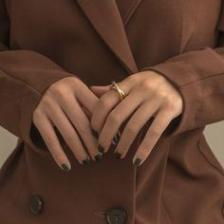brown: (0, 139, 224, 224), (0, 142, 137, 224), (7, 0, 129, 85), (118, 0, 221, 69), (0, 51, 72, 147), (146, 48, 224, 135), (158, 129, 224, 224), (77, 0, 139, 74), (136, 196, 157, 224)
